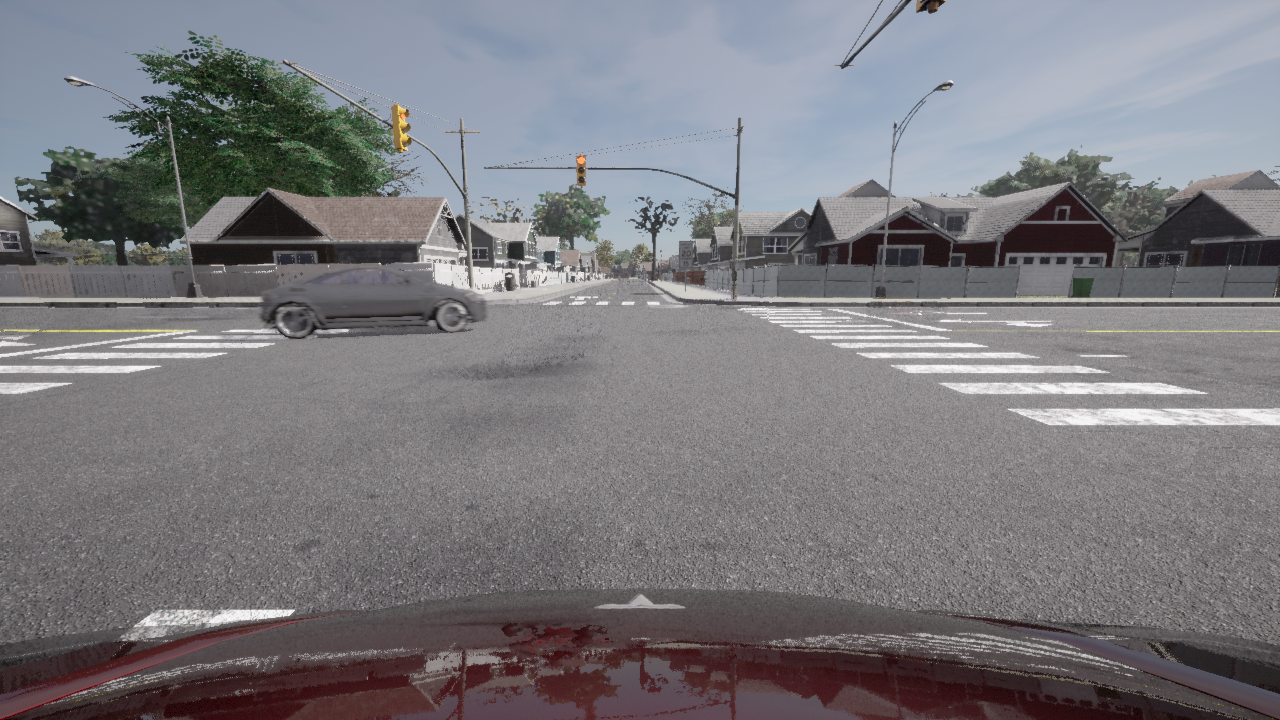cyclist: (0, 588, 1279, 719), (259, 265, 488, 338)
pedestrian: (339, 261, 342, 263)
